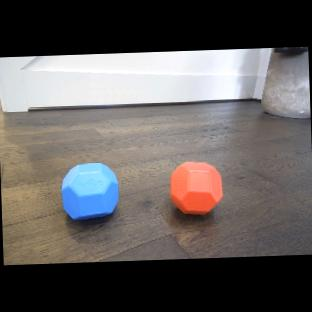V5_BLUE: (60, 162, 120, 221)
V5_RED: (170, 161, 224, 217)
